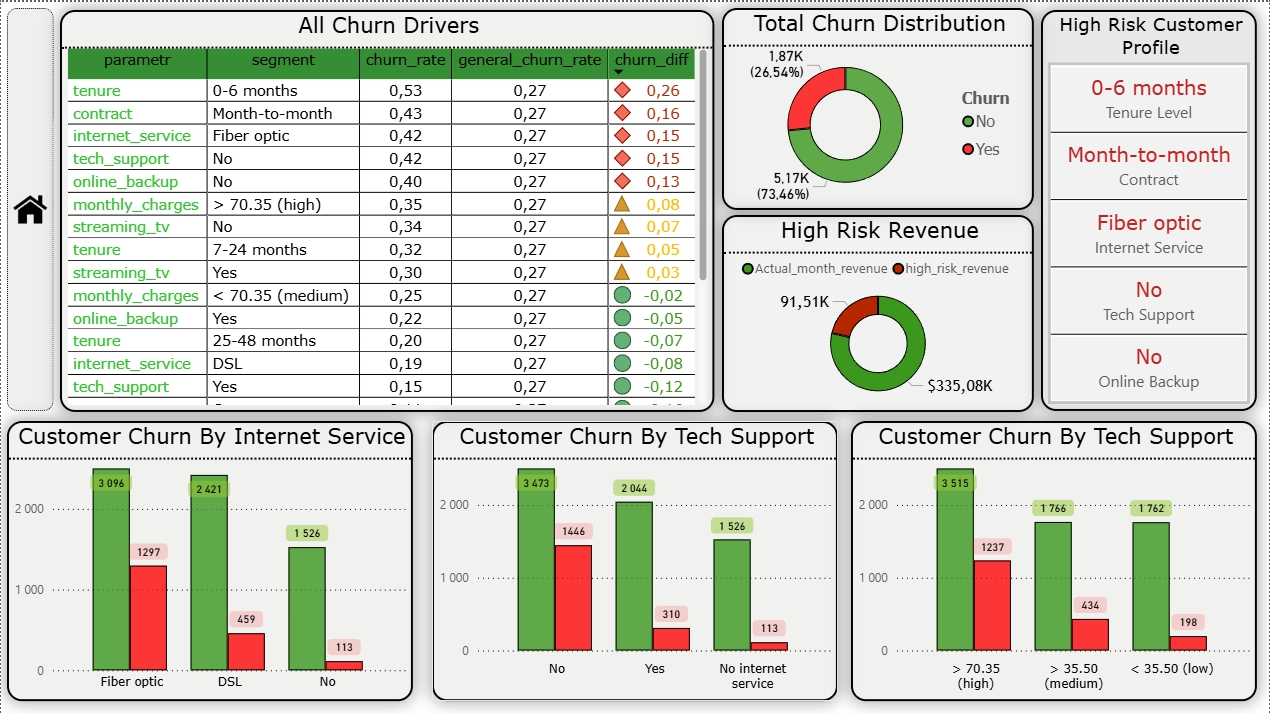

The dashboard page shown, as its layout file describes it:
{"tool":"powerbi","page":{"name":"Customer Segmentation & Risk Profile","canvas":[1280,720],"ordinal":1},"visuals":[{"type":"image","box":[5.7,6.6,46.7,407.4],"z":0},{"type":"tableEx","title":"All Churn Drivers","fields":{"Values":["telecom_processed.parametr","telecom_processed.segment","telecom_processed.churn_rate","telecom_processed.general_churn_rate","telecom_processed.churn_diff"]},"box":[59.6,8.1,660.6,406.1],"z":1000},{"type":"donutChart","title":"Total Churn Distribution","fields":{"Category":["telecom.Churn"],"Y":["CountNonNull(telecom.Churn)"]},"box":[728.3,6.1,315.2,204],"z":2000},{"type":"donutChart","title":"High Risk Revenue","fields":{"Y":["_Measures.Actual_month_revenue","_Measures.high_risk_revenue"]},"box":[728.3,215.2,315.2,199],"z":3000},{"type":"cardVisual","title":"High Risk Customer Profile","fields":{"Data":["Min(telecom.tenure_level)","Min(telecom.Contract)","Min(telecom.internet_service)","Min(telecom.tech_support)","Min(telecom.online_backup)"]},"box":[1050.5,8.1,218.2,405.1],"z":4000},{"type":"clusteredColumnChart","title":"Customer Churn By Internet Service","fields":{"Category":["telecom.internet_service"],"Y":["telecom.total_customers","telecom.churn_customers"]},"box":[6.1,423.2,410,282.8],"z":5000},{"type":"clusteredColumnChart","title":"Customer Churn By Tech Support","fields":{"Category":["telecom.tech_support"],"Y":["telecom.total_customers","telecom.churn_customers"]},"box":[435.4,423.2,410.1,282.8],"z":6000},{"type":"clusteredColumnChart","title":"Customer Churn By Tech Support","fields":{"Category":["telecom.monthly_charges_level"],"Y":["telecom.total_customers","telecom.churn_customers"]},"box":[858.6,423.2,410.1,282.8],"z":7000}]}

Visuals, with their boxes in screenshot pixels (x1, y1, x2, y2), scaled from the page's 1280x720 canvas onto the 1270x714 screenshot:
image: locate(6, 7, 52, 411)
"All Churn Drivers" tableEx: locate(59, 8, 715, 411)
"Total Churn Distribution" donutChart: locate(723, 6, 1035, 208)
"High Risk Revenue" donutChart: locate(723, 213, 1035, 411)
"High Risk Customer Profile" cardVisual: locate(1042, 8, 1259, 410)
"Customer Churn By Internet Service" clusteredColumnChart: locate(6, 420, 413, 700)
"Customer Churn By Tech Support" clusteredColumnChart: locate(432, 420, 839, 700)
"Customer Churn By Tech Support" clusteredColumnChart: locate(852, 420, 1259, 700)
